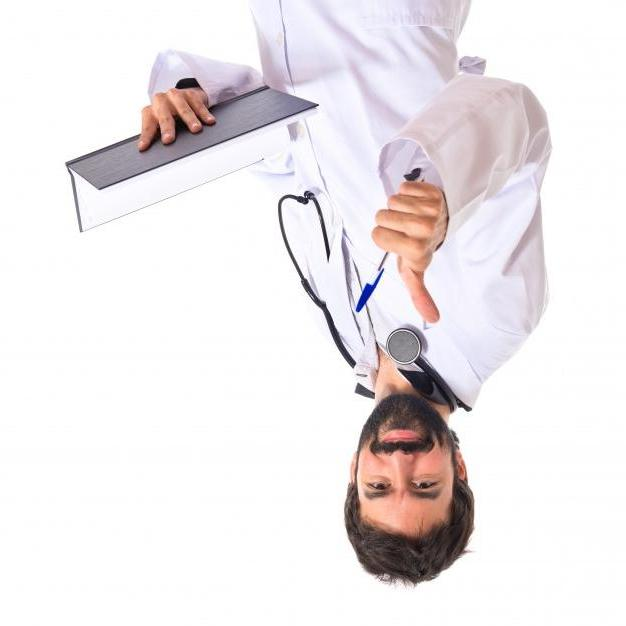thumbsdown: (371, 182, 443, 323)
